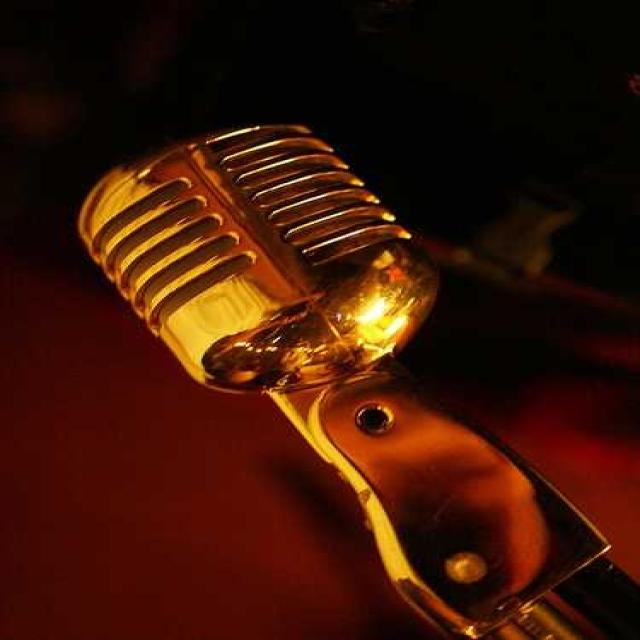microphone: (79, 126, 430, 392)
